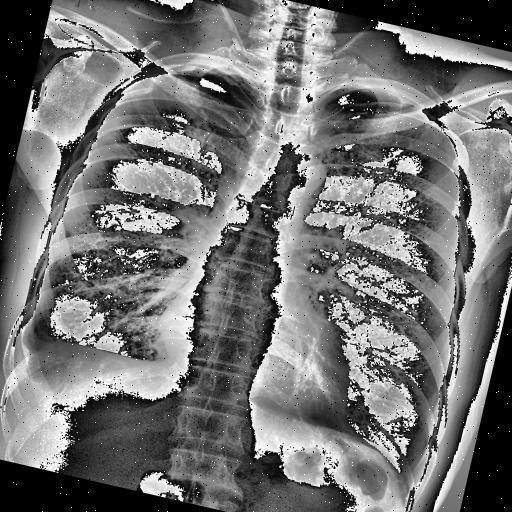10- Pleural effusion: (4, 310, 58, 386), (10, 325, 50, 374)
11- Pleural thickening: (4, 310, 58, 386), (149, 53, 235, 98), (160, 55, 254, 94), (161, 56, 246, 90), (345, 80, 426, 113), (11, 329, 56, 381), (10, 325, 50, 374), (383, 90, 442, 122), (386, 470, 418, 512), (383, 87, 428, 112)
